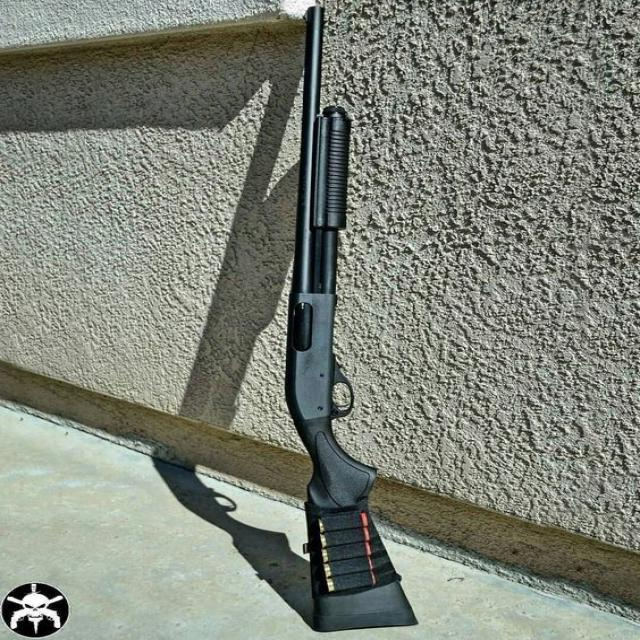shotgun: (290, 0, 426, 623)
